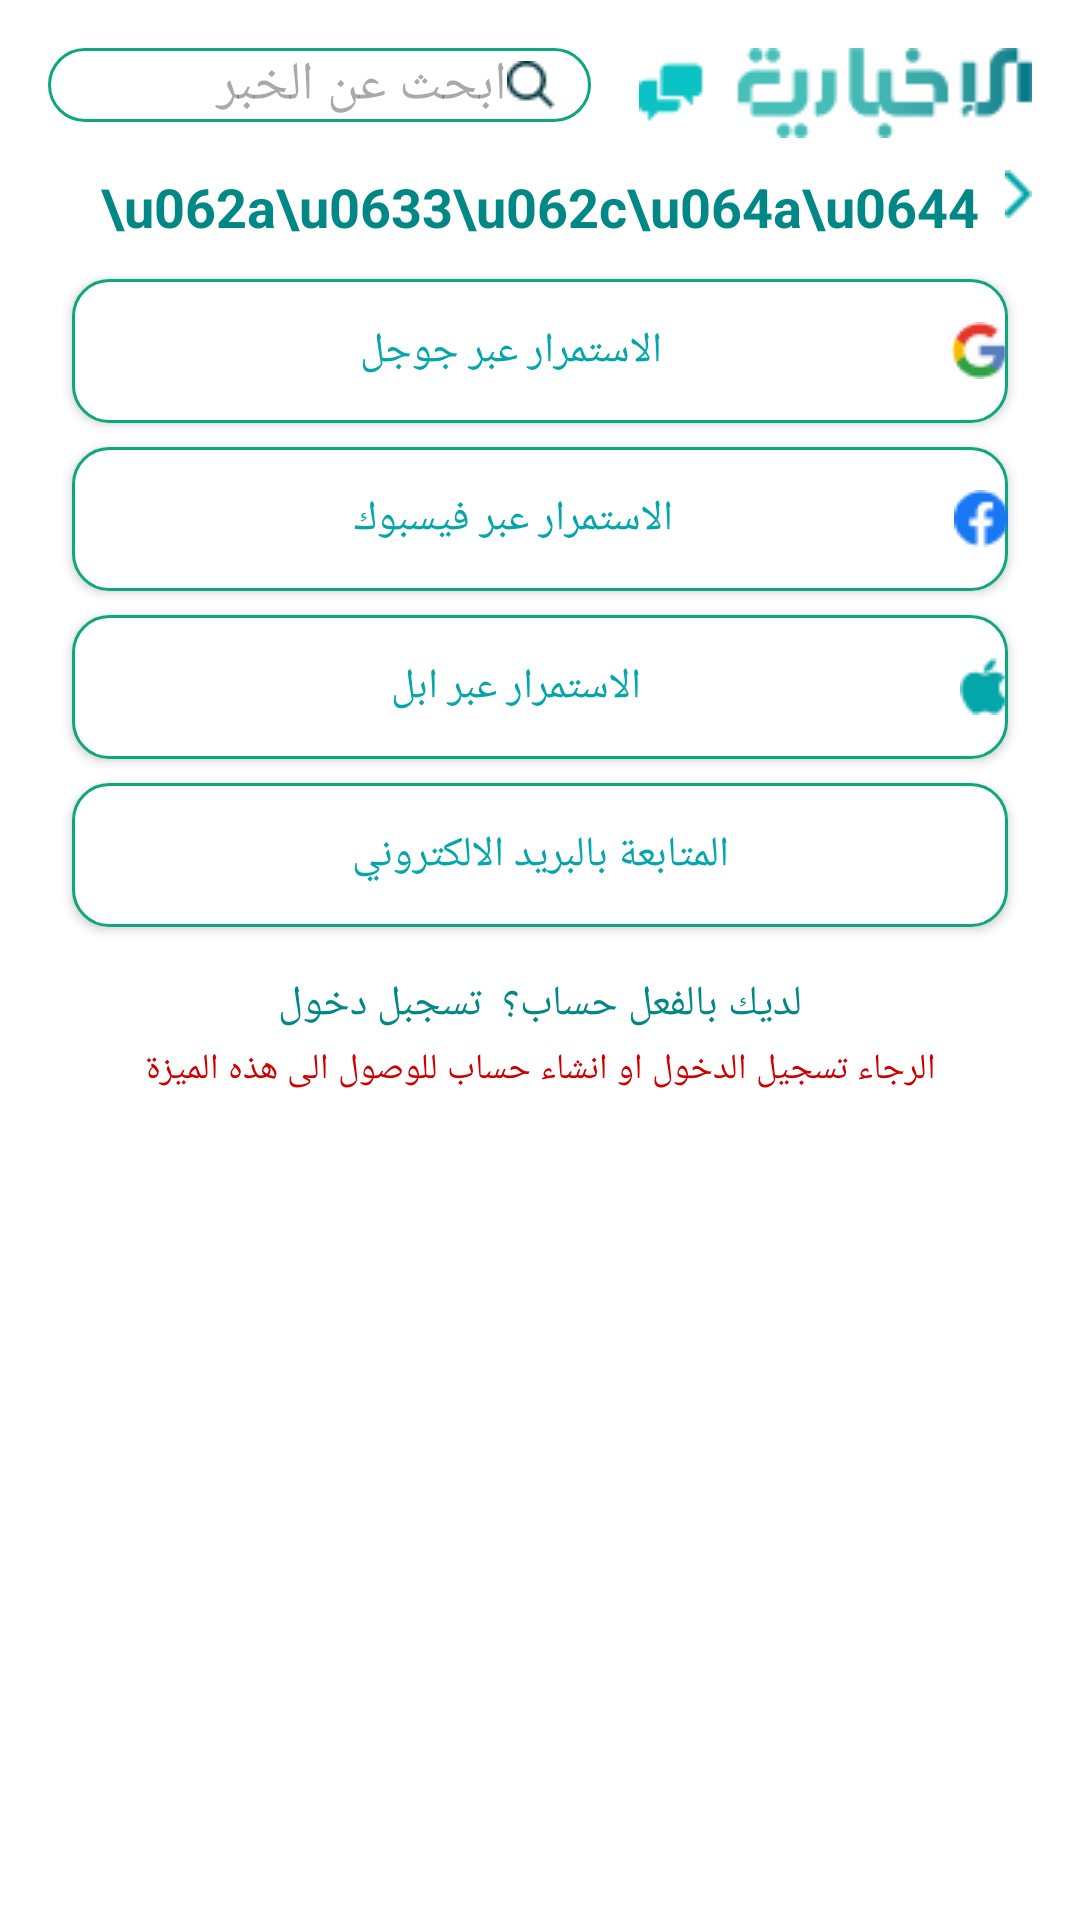

Icon click points for this 1080px x 1920px phone screenshot, format (x,y):
arrow: (1018,194)
